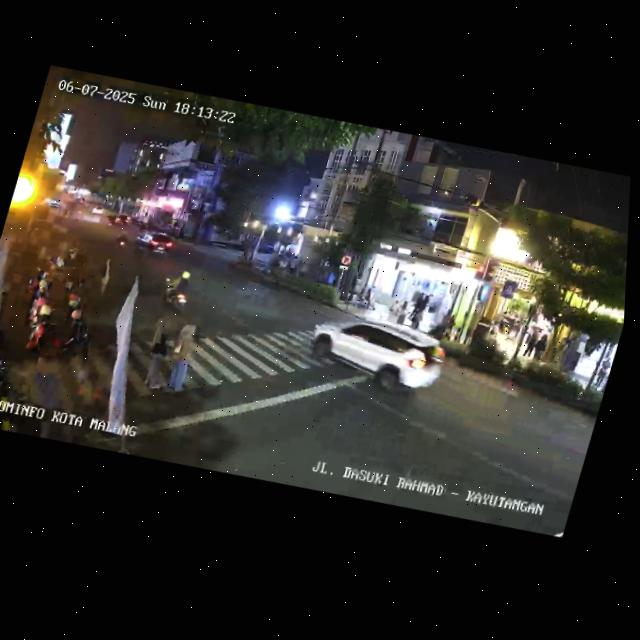car: (298, 300, 452, 411), (130, 224, 177, 261)
motorcycle: (157, 265, 197, 314), (111, 227, 131, 253)
person: (134, 311, 183, 393), (160, 319, 204, 398), (91, 254, 116, 295), (531, 328, 551, 363), (521, 326, 539, 360), (596, 362, 612, 393), (394, 297, 410, 326), (408, 290, 423, 319), (385, 294, 400, 319), (410, 306, 424, 328), (418, 293, 430, 311)
